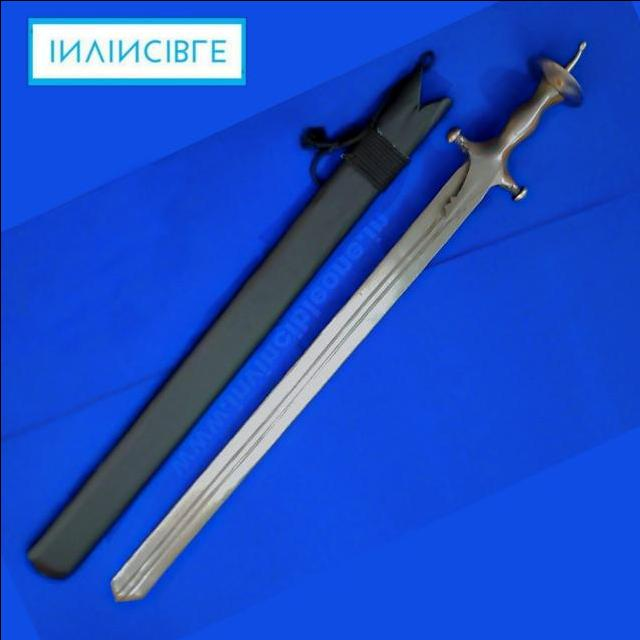scabbard: (10, 6, 492, 592)
sword: (88, 21, 617, 622)
